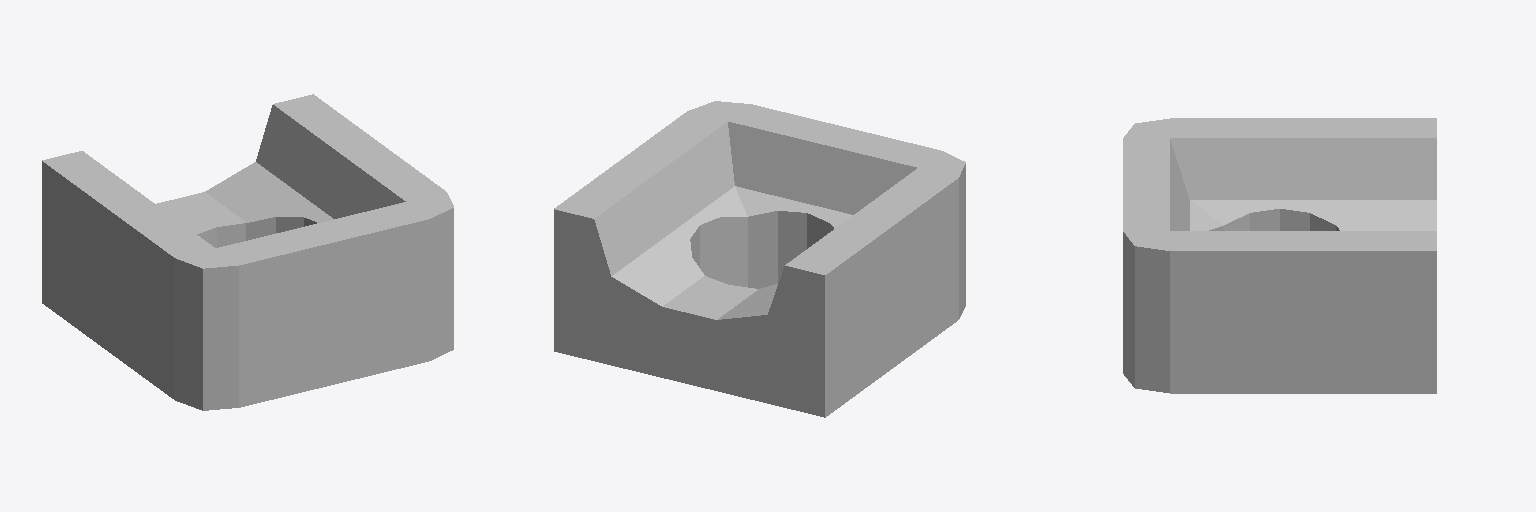
Rendered from end-hole-rounded.obj.
3 views of the same model, side by side, from view 1: azimuth 30°, elevation 25°; view 2: azimuth 150°, elevation 25°; view 3: azimuth 270°, elevation 25° (orthographic).
Parts seen in each view (by area): view 1: end-hole-rounded; view 2: end-hole-rounded; view 3: end-hole-rounded.
Part boxes in pixels (left/top/right/bottom): end-hole-rounded: left=42, top=94, right=453, bottom=410; end-hole-rounded: left=554, top=101, right=965, bottom=417; end-hole-rounded: left=1123, top=118, right=1436, bottom=393.
Size of the model in its own units: 1 by 0.5 by 1.